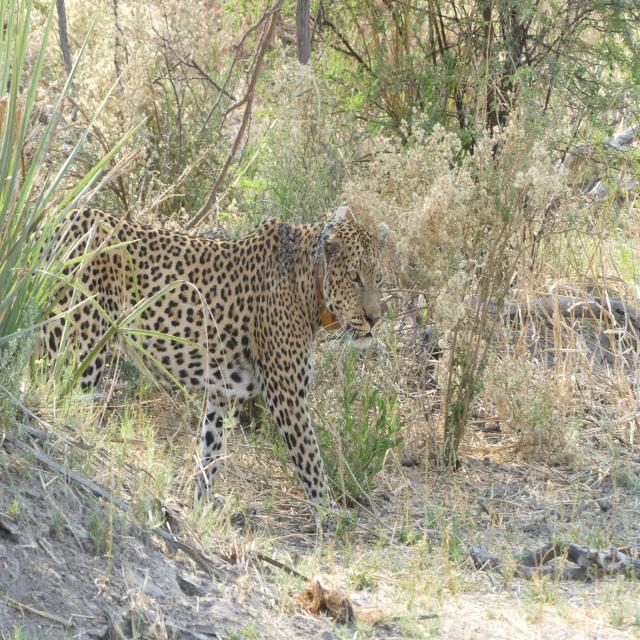Leopard: (8, 200, 406, 542)
